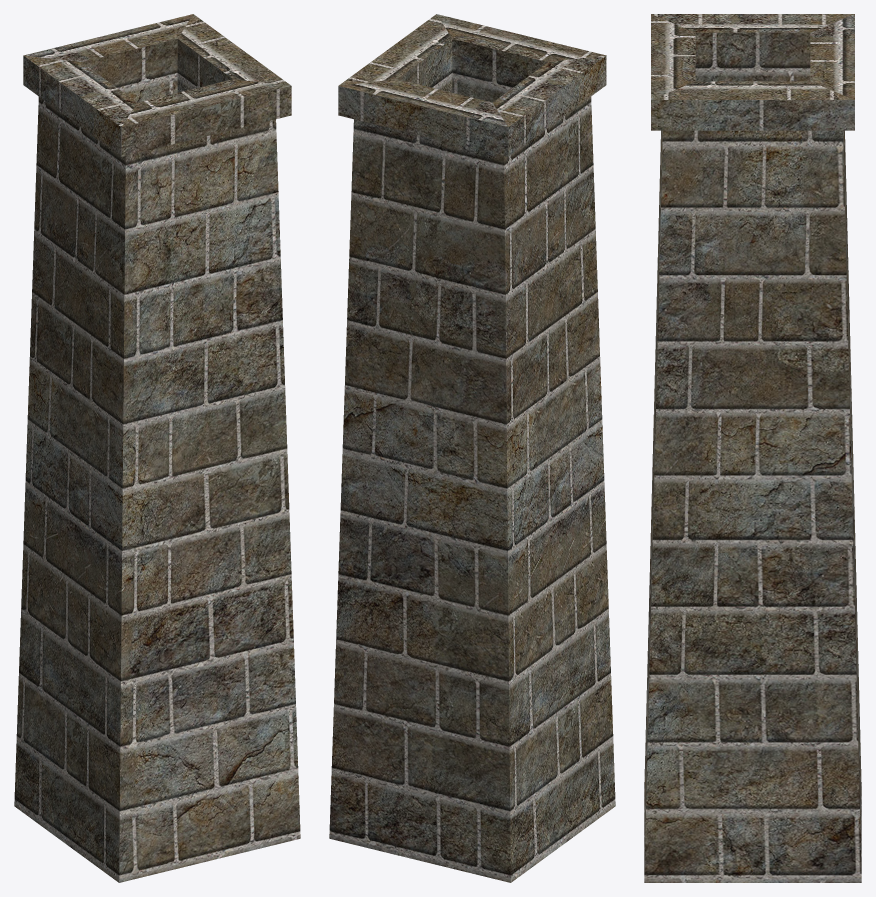
File: ARC1010375.fbx
3 views of the same model, side by side, from view 1: azimuth 30°, elevation 25°; view 2: azimuth 150°, elevation 25°; view 3: azimuth 270°, elevation 25° (orthographic). The views are drawn at different scales.
Parts seen in each view (by area): view 1: smARC1010375; view 2: smARC1010375; view 3: smARC1010375.
Boxes of the visible parts, box(x1,y1,x2,y2) form: smARC1010375: box(14, 14, 300, 882); smARC1010375: box(329, 14, 615, 882); smARC1010375: box(644, 14, 861, 882).
Size of the model in its own units: 66.18 by 262 by 66.18.
1 material, 1 textured.
